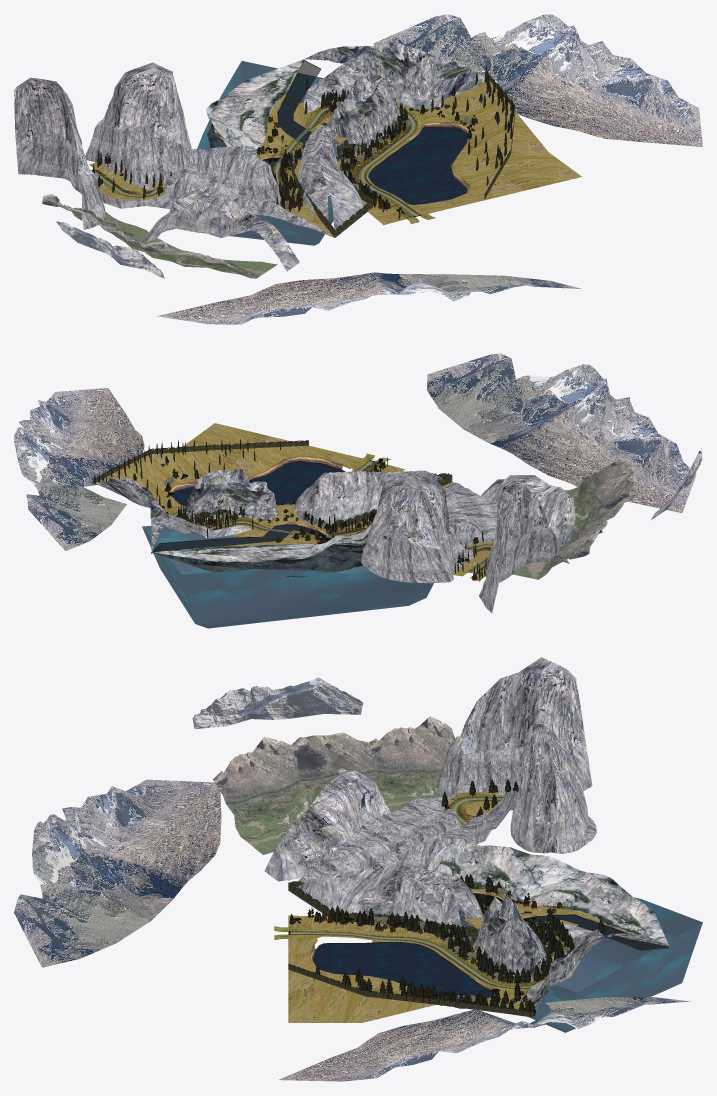
Rendered from stage-yose.glb.
3 renders of one model, top to bottom at view 1: azimuth 30°, elevation 25°; view 2: azimuth 150°, elevation 25°; view 3: azimuth 270°, elevation 25°, orthographic. The views are drawn at different scales.
Visible parts, largest first — view 1: part 1, part 6, part 2, part 0; view 2: part 1, part 6, part 2, part 0; view 3: part 1, part 6, part 2, part 0.
Boxes of the visible parts, left/top/right/bottom form: part 1: left=14, top=14, right=702, bottom=324; part 6: left=195, top=60, right=467, bottom=245; part 2: left=91, top=66, right=515, bottom=237; part 0: left=95, top=106, right=417, bottom=216; part 1: left=14, top=353, right=702, bottom=612; part 6: left=142, top=461, right=433, bottom=628; part 2: left=92, top=438, right=491, bottom=581; part 0: left=172, top=461, right=492, bottom=573; part 1: left=14, top=657, right=691, bottom=1081; part 6: left=312, top=893, right=702, bottom=1032; part 2: left=288, top=779, right=604, bottom=1017; part 0: left=290, top=797, right=567, bottom=988.
Bounding box in the file's own units: 4698 × 1258 × 3926.
Materials: 67 (65 with a texture image).
